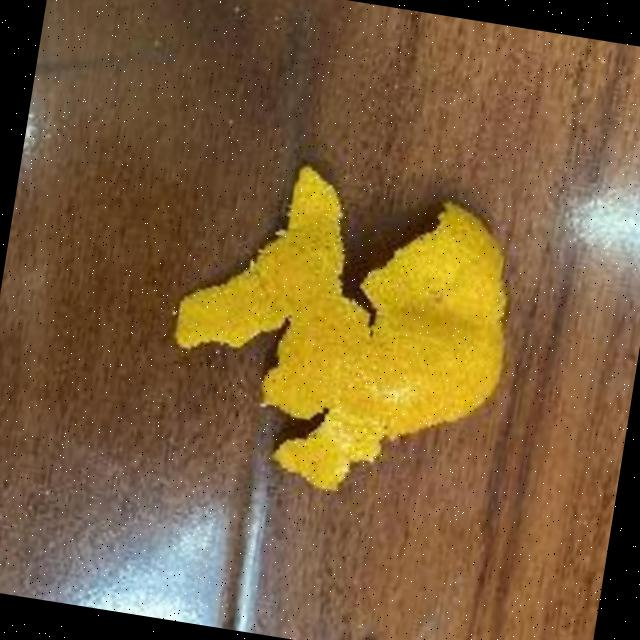orange-peel: (149, 144, 534, 516)
